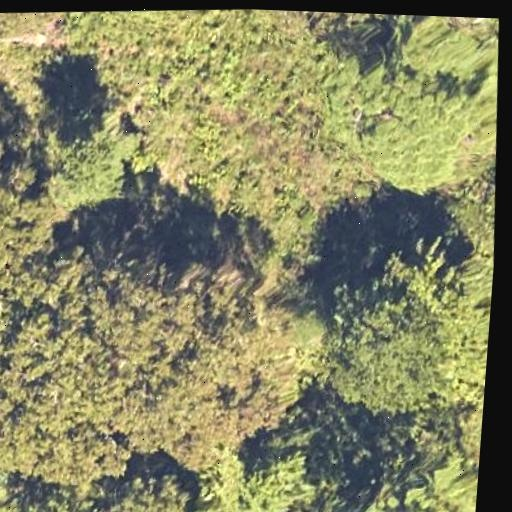tree-top: (97, 241, 346, 472), (325, 13, 508, 201), (309, 242, 490, 426), (0, 314, 127, 487), (0, 165, 81, 314), (351, 426, 481, 512), (38, 110, 139, 217), (244, 430, 344, 512), (95, 455, 195, 512)
